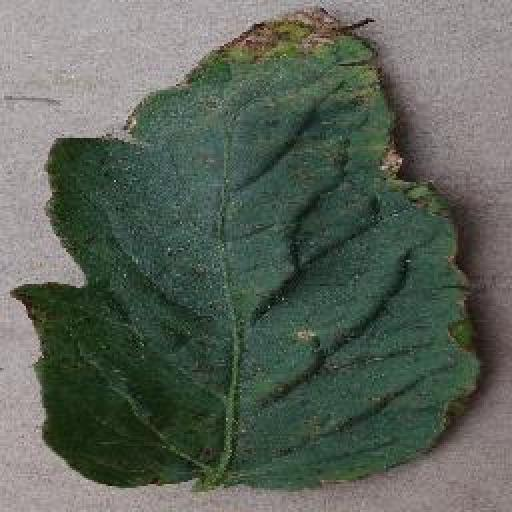Bacterial Spot: (2, 5, 492, 498)
